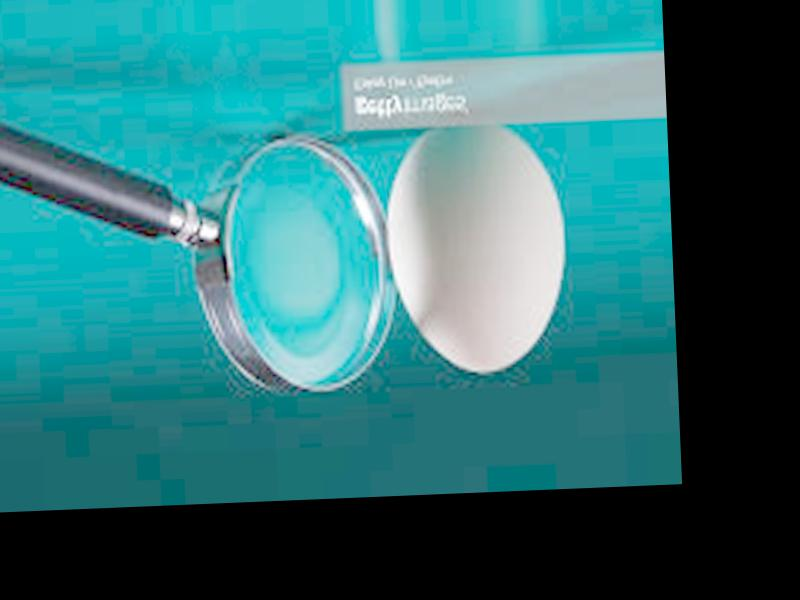Eggs: (382, 117, 570, 377)
